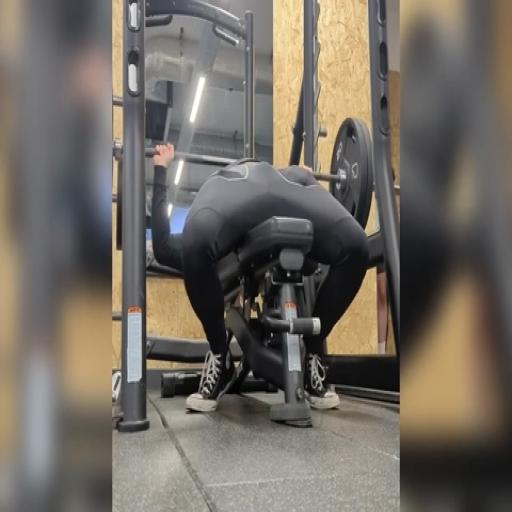exercise: (148, 139, 372, 417)
